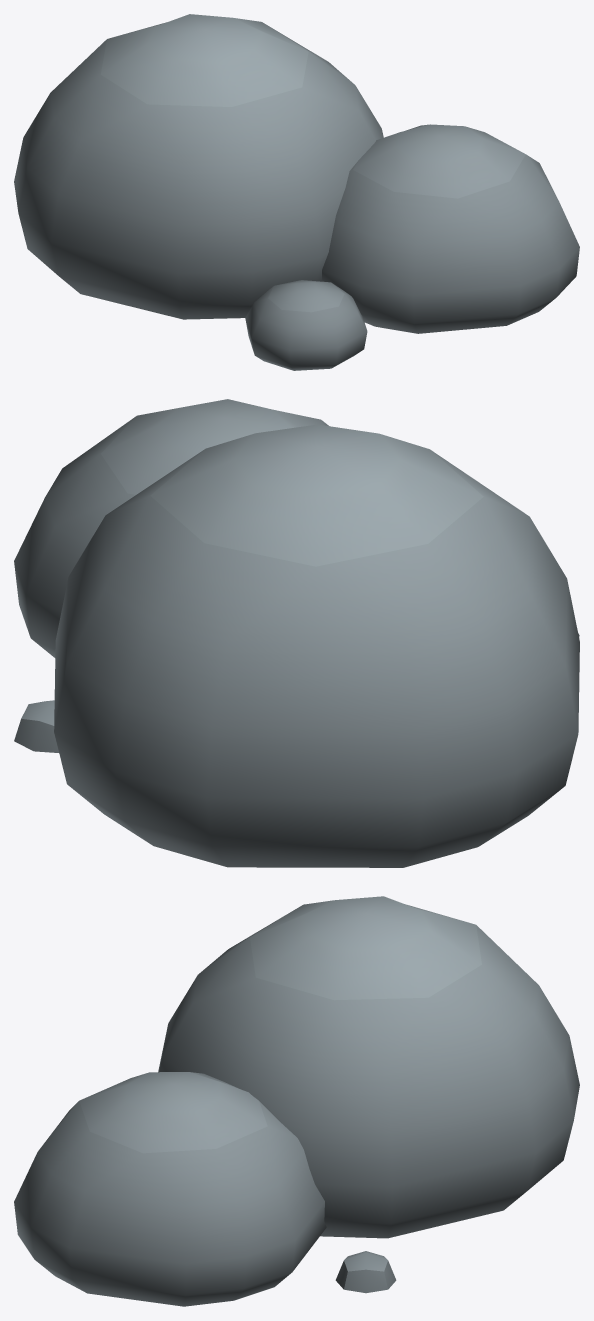
File: Rock_5_F_Color1.gltf
The picture shows the model from 3 angles, top to bottom: view 1: azimuth 30°, elevation 25°; view 2: azimuth 150°, elevation 25°; view 3: azimuth 270°, elevation 25°; orthographic projection. The views are drawn at different scales.
Visible parts, largest first — view 1: Rock_5_F_Color1; view 2: Rock_5_F_Color1; view 3: Rock_5_F_Color1.
Boxes of the visible parts, x1=… form: Rock_5_F_Color1: x1=14, y1=14, x2=579, y2=370; Rock_5_F_Color1: x1=14, y1=399, x2=579, y2=867; Rock_5_F_Color1: x1=14, y1=896, x2=579, y2=1306.
Size of the model in its own units: 1.76 by 0.9247 by 1.76.
1 material, 1 textured.
